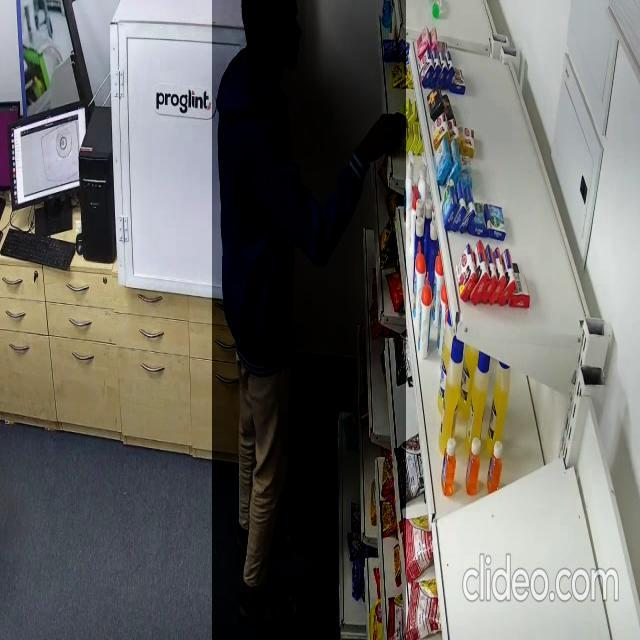normal: (212, 0, 406, 640)
